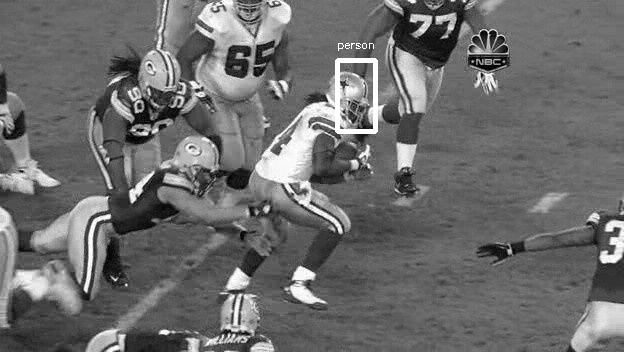person: (331, 75, 367, 123), (330, 75, 366, 123), (332, 75, 368, 123), (331, 74, 367, 122), (331, 76, 367, 124)
target_negative: (174, 181, 406, 214), (486, 207, 607, 247), (184, 327, 275, 352), (102, 343, 392, 344), (101, 299, 138, 305), (330, 291, 331, 338)
